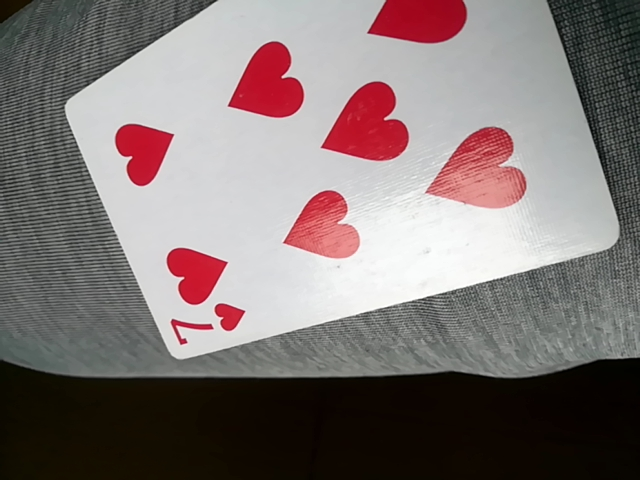hx 7: (63, 4, 615, 361)
